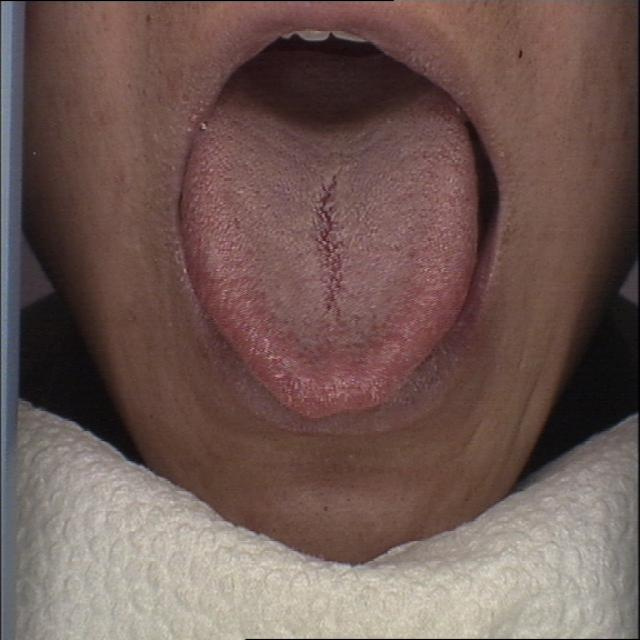tongue: (177, 85, 487, 429)
